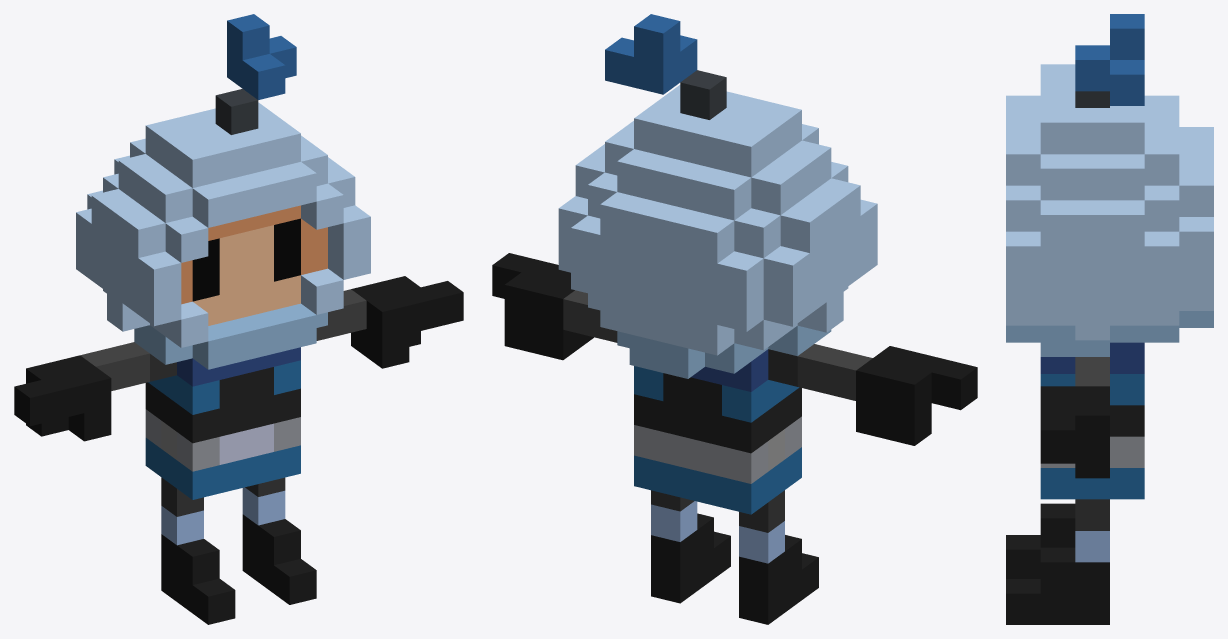
File: blue2.obj
3 renders of one model, left to right at view 1: azimuth 30°, elevation 25°; view 2: azimuth 150°, elevation 25°; view 3: azimuth 270°, elevation 25°, orthographic. The views are drawn at different scales.
Bounding box in the file's own units: 16 × 19 × 6.
Materials: 1 (1 with a texture image).
